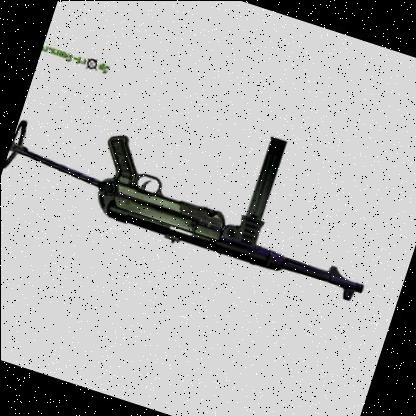rifle: (0, 57, 408, 325)
